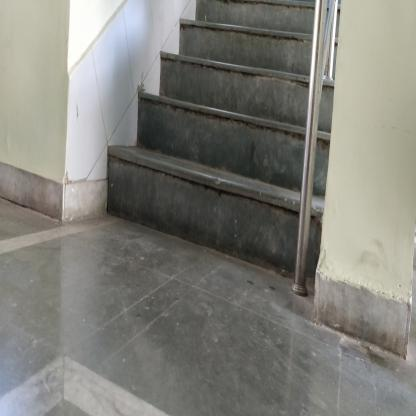stairs: (180, 17, 295, 262)
